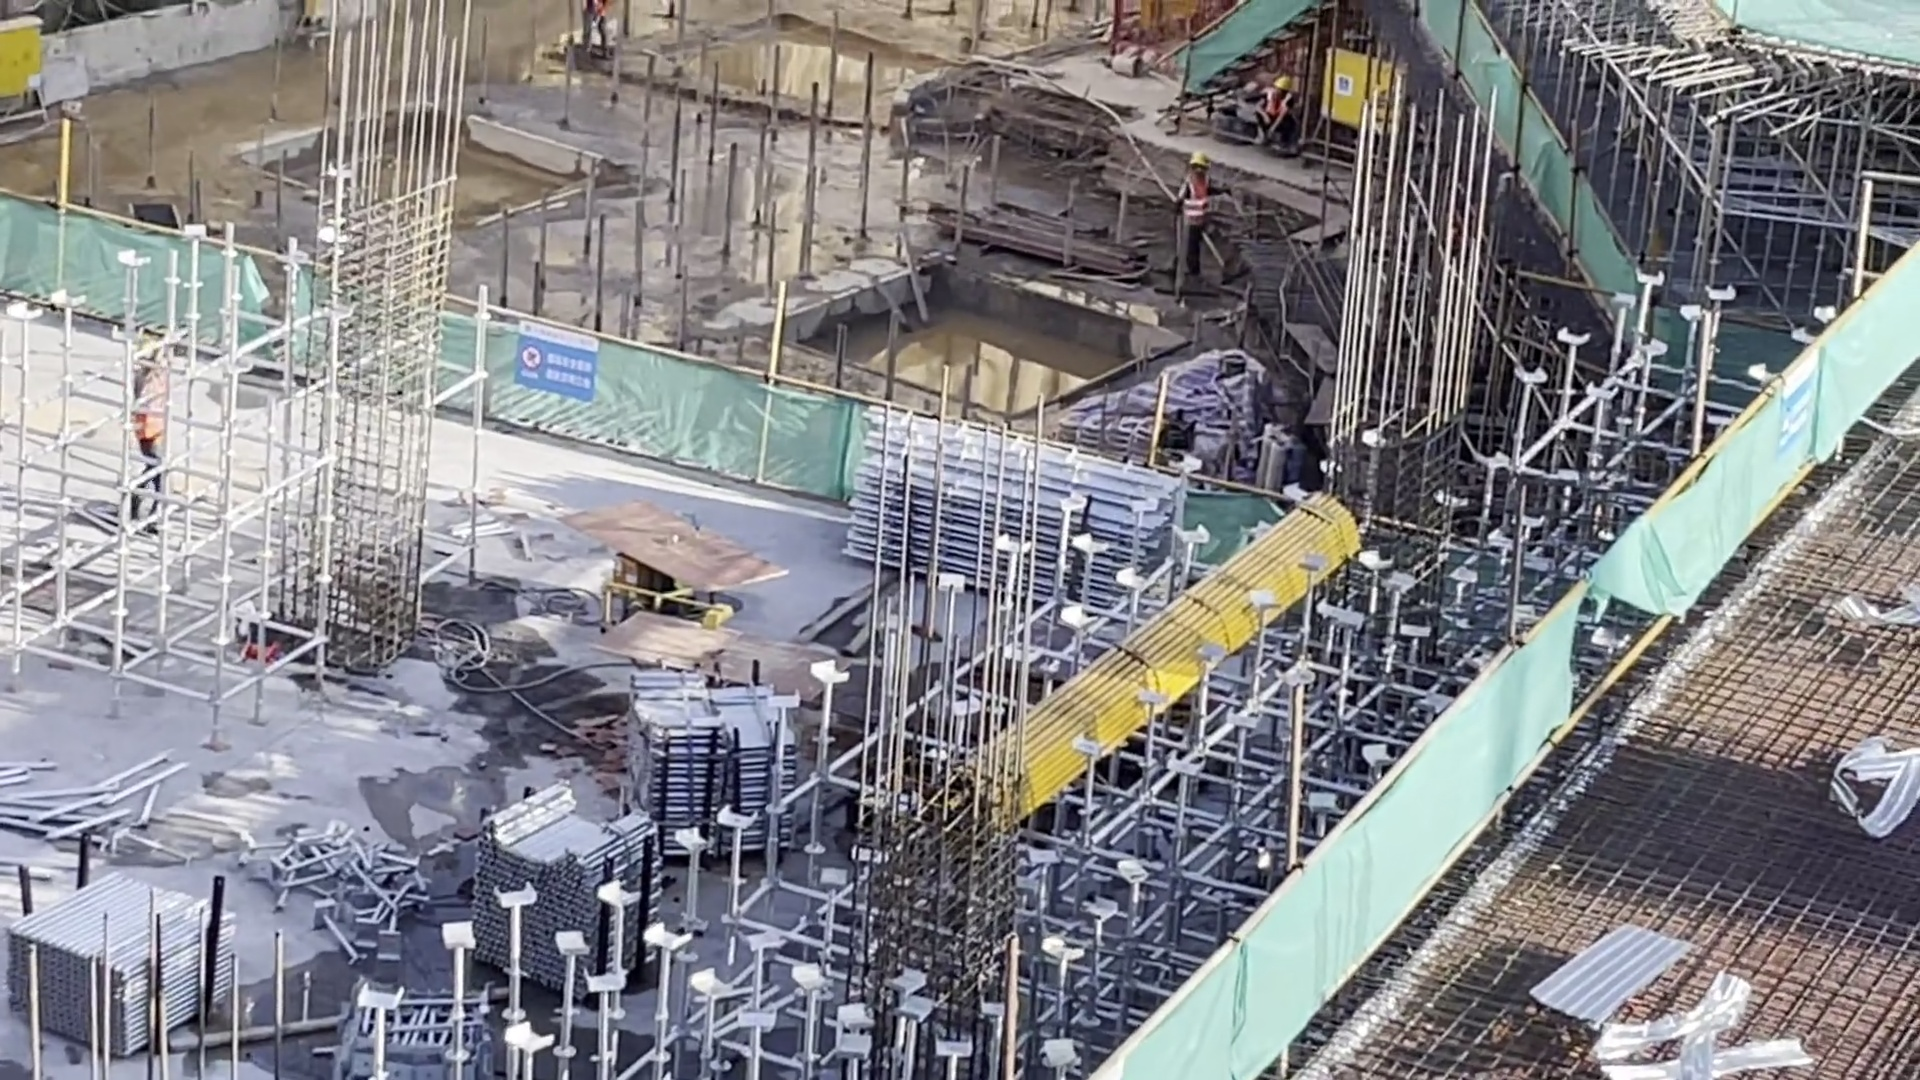cutter: (628, 617, 845, 710), (587, 513, 760, 609)
ebox: (1311, 58, 1391, 127), (1, 35, 61, 124)
helmet: (1191, 155, 1213, 170), (1275, 78, 1290, 94)
person: (128, 342, 180, 528), (1169, 142, 1233, 290), (1254, 78, 1304, 152), (576, 1, 610, 64)
scaffold: (5, 881, 249, 1017), (884, 472, 1164, 581), (637, 700, 813, 823), (472, 824, 631, 939)
slogan: (504, 326, 592, 410), (1786, 364, 1829, 440)
vest: (136, 376, 168, 451), (1180, 181, 1212, 236), (1269, 92, 1294, 121), (583, 1, 609, 16)
